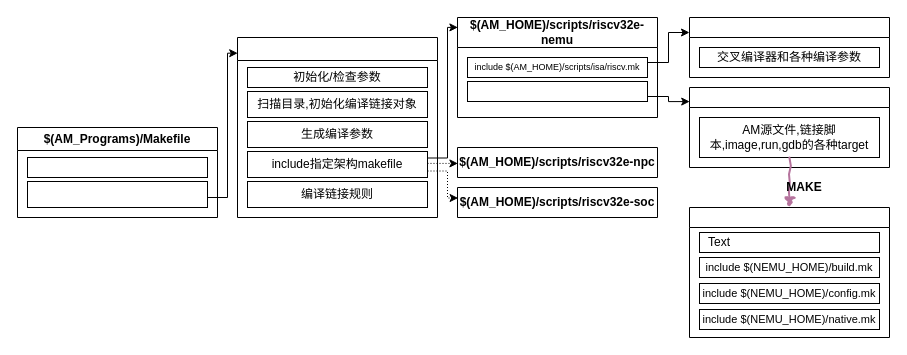
The diagram is 907 pixels wide and 355 high, and some of its shapes have lost their labels. The box of each missing label's shape, as (x1, y1, x2, y2) in pixels:
$(AM_HOME)/Makefile: (236, 36, 438, 218)
$(AM_HOME)/platform/nemu.mk: (688, 86, 890, 168)
$(AM_HOME)/scripts/isa/riscv.mk: (688, 16, 890, 78)
$(NEMU_HOME)/Makefile: (688, 206, 890, 338)
include $(AM_HOME)/Makefile: (26, 180, 208, 208)
include $(AM_HOME)/platform/nemu.mk: (466, 80, 648, 102)
NEMU compile rules: (698, 232, 880, 252)
添加SRCS: (26, 156, 208, 178)
